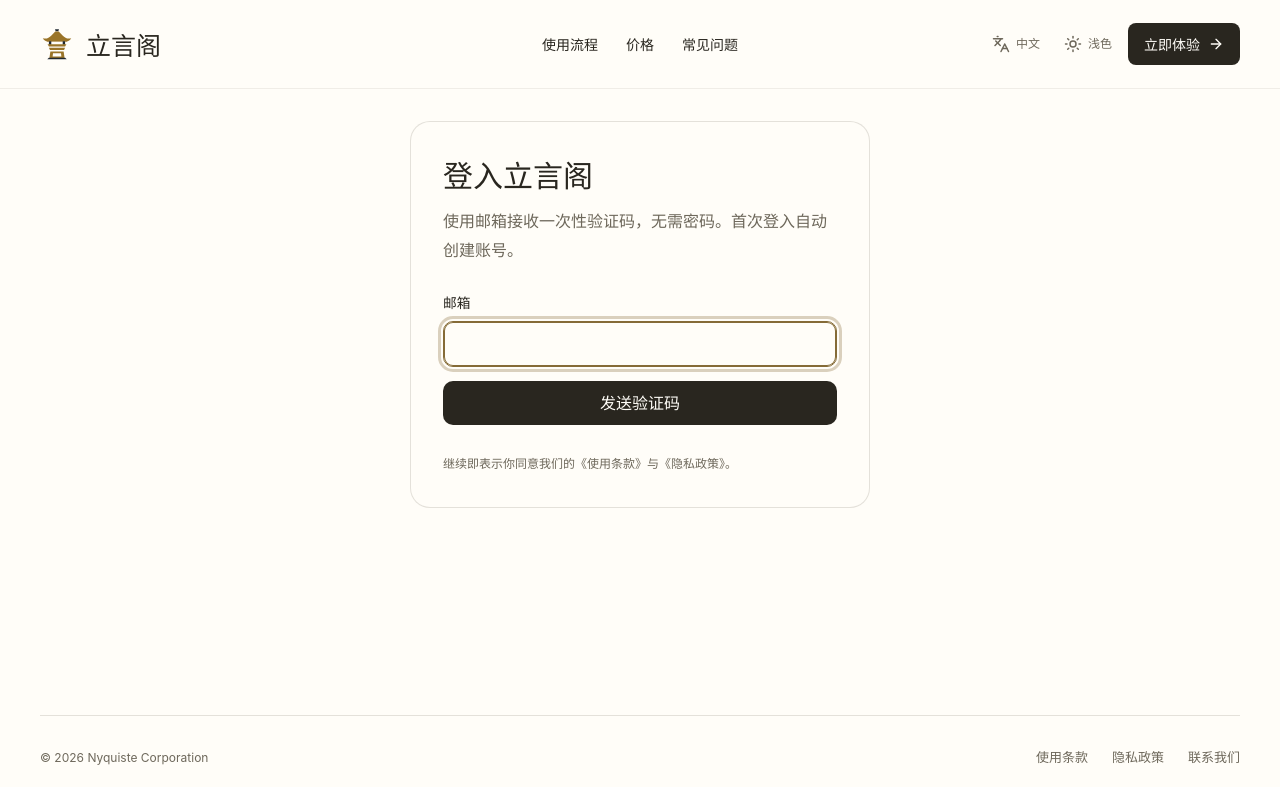
Email OTP sign in › opens the authenticated user's empty task list after OTP verification
Type "writer@example.com" into the field labelled "邮箱" at (640, 344), box [443,321,837,367]
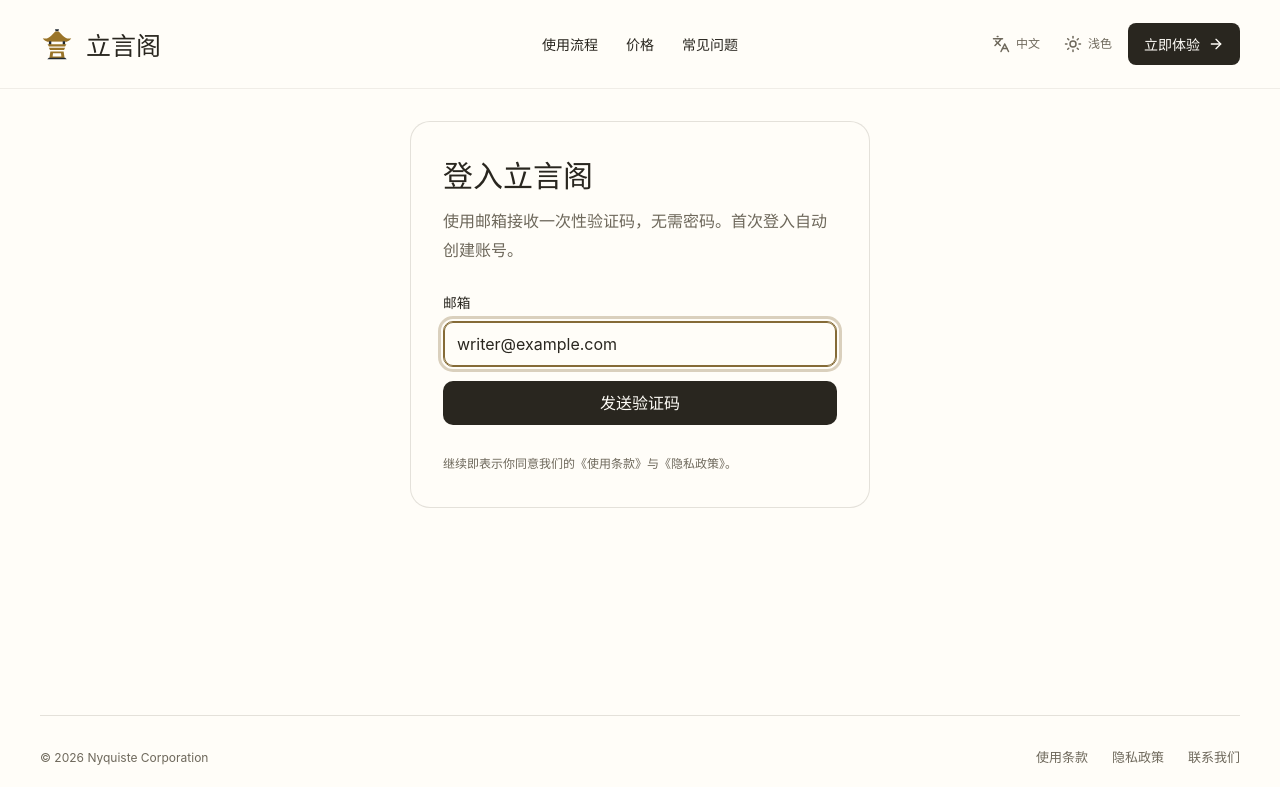
Click the button "发送验证码" at (640, 403), box [443,381,837,425]
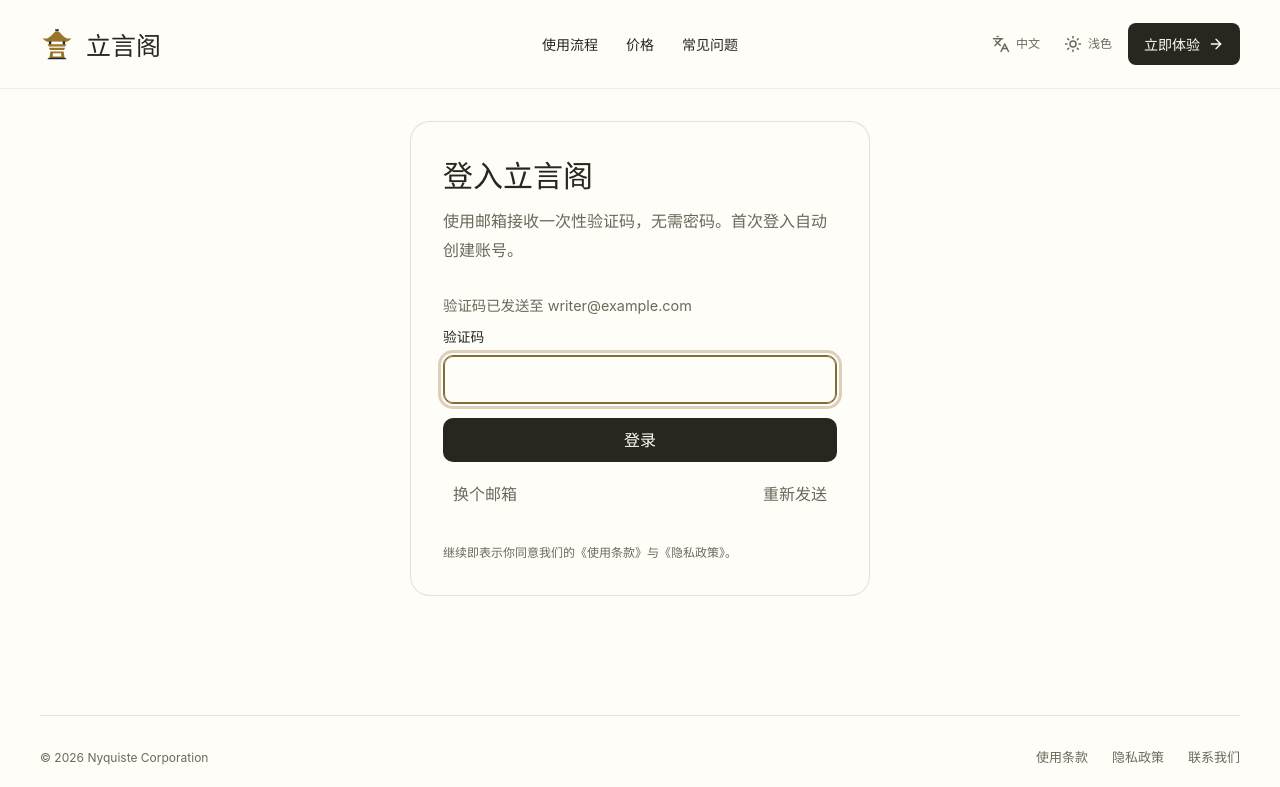
Type "123456" into the field labelled "验证码" at (640, 379), box [443,355,837,404]
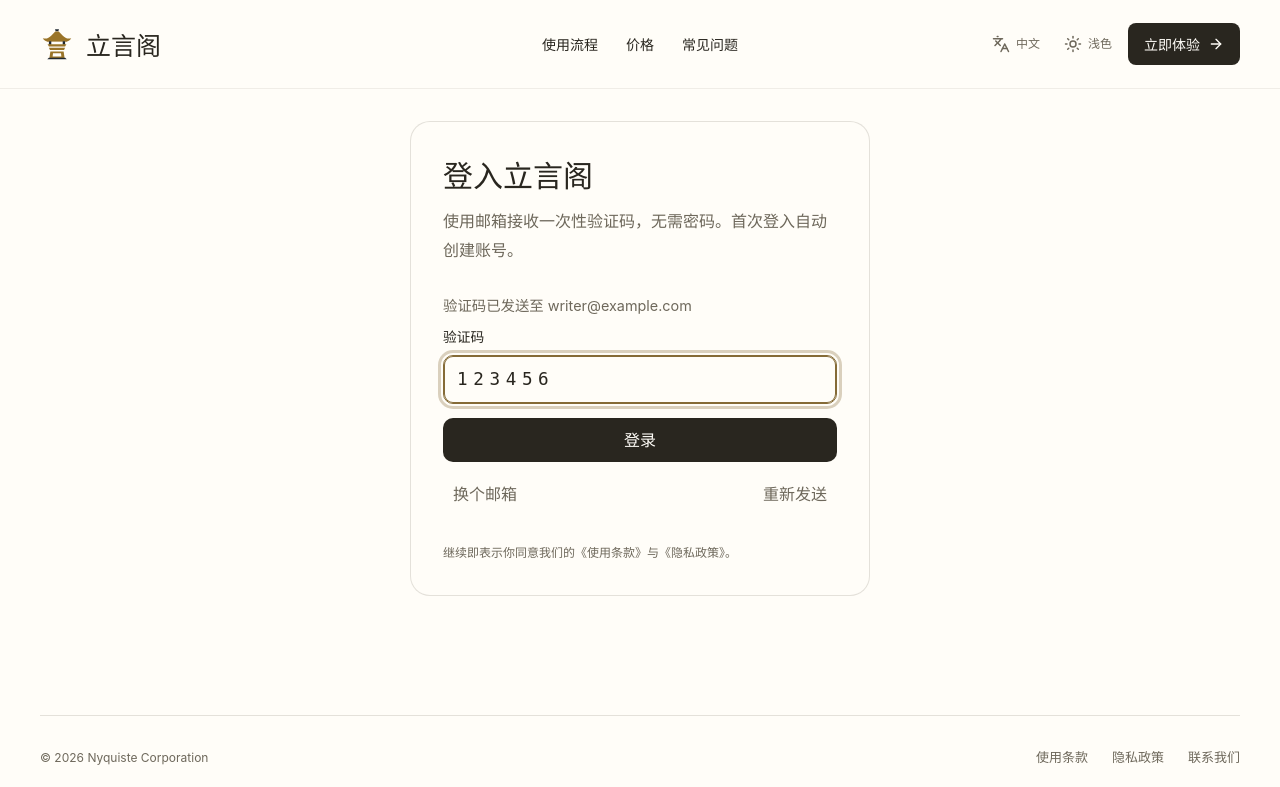
Click the button "登录" at (640, 440), box [443,418,837,462]
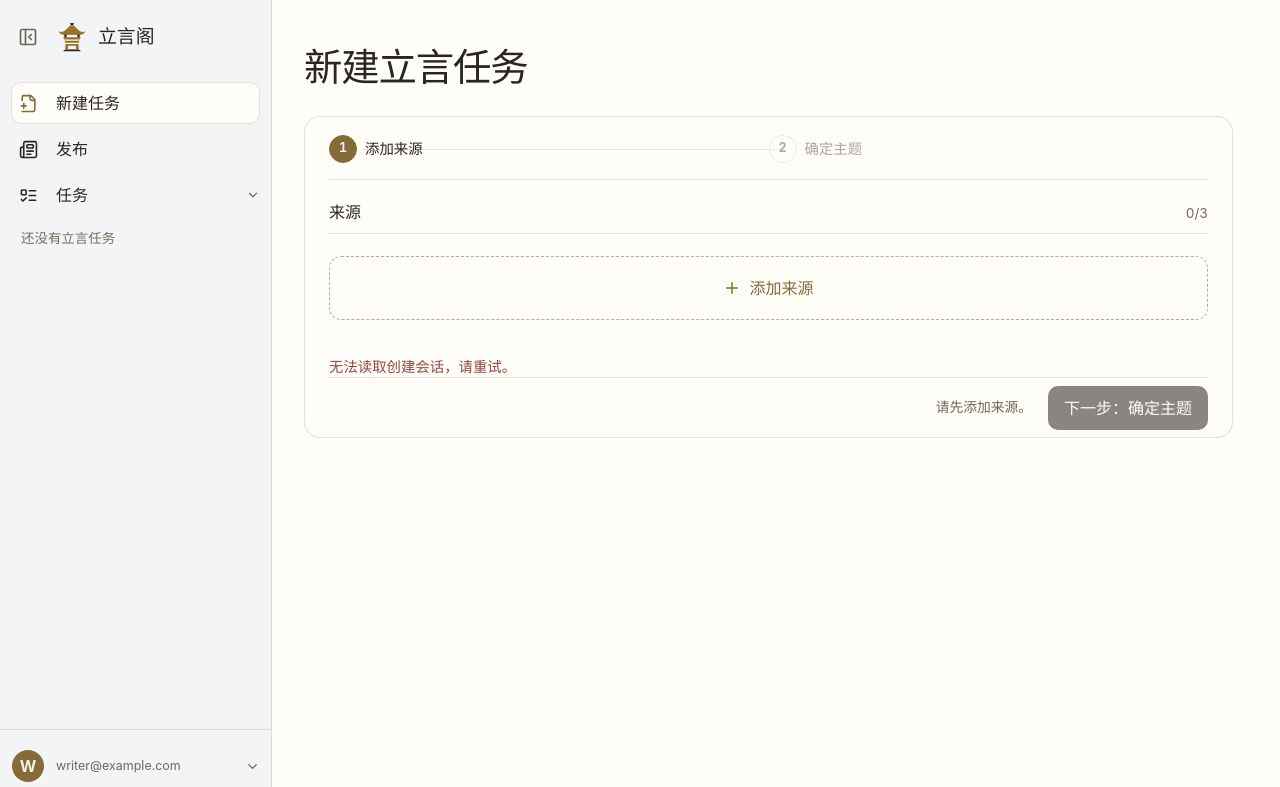
Check: the heading "新建立言任务" is shown, box [304,47,527,89]
Check: the text "还没有立言任务" is shown, box [21,230,115,246]
